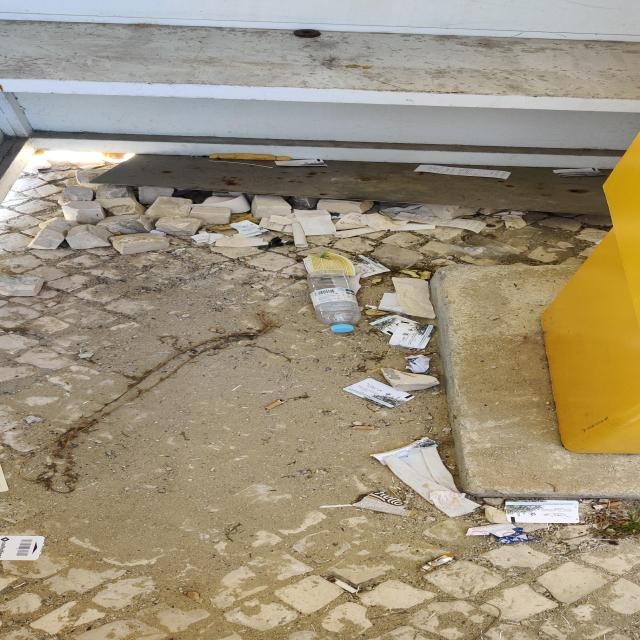litter: (371, 437, 484, 518), (305, 270, 364, 328), (340, 377, 412, 407), (504, 499, 579, 522), (0, 534, 44, 558)
